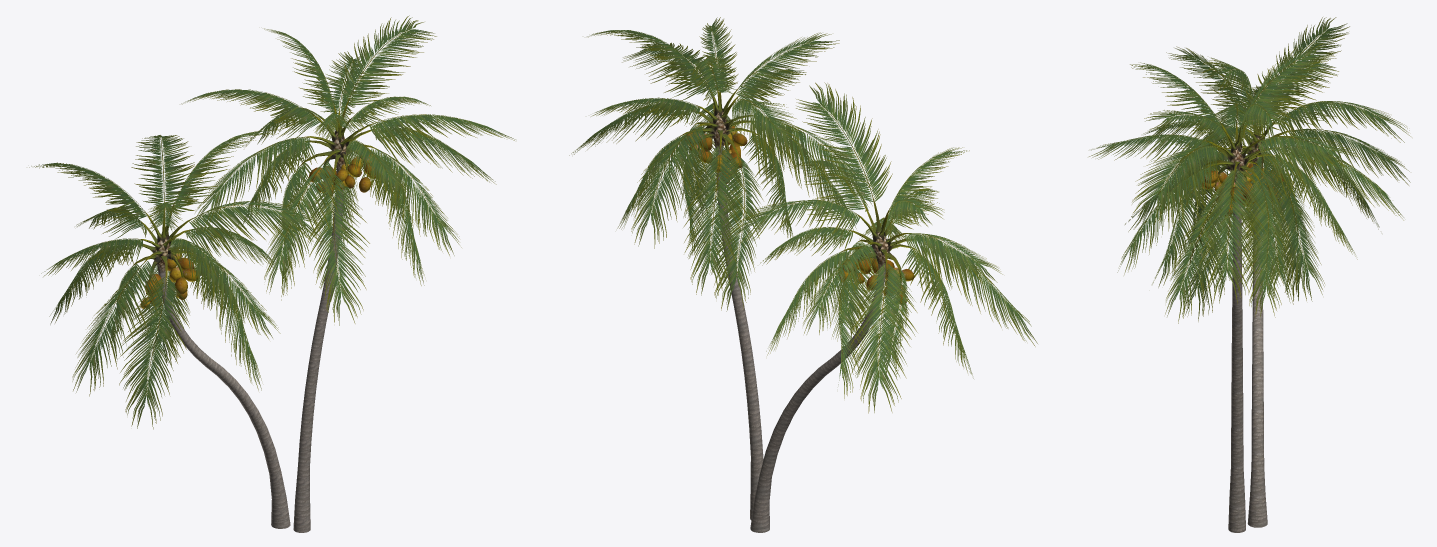
File: palm_coconut.glb
3 views of the same model, side by side, from view 1: azimuth 30°, elevation 25°; view 2: azimuth 150°, elevation 25°; view 3: azimuth 270°, elevation 25° (orthographic). The views are drawn at different scales.
Visible parts, largest first — view 1: Tree_2, Tree_0, Tree_3, Tree_4; view 2: Tree_2, Tree_0, Tree_3, Tree_4, Tree_1; view 3: Tree_2, Tree_0, Tree_3, Tree_4.
Boxes of the visible parts, x1,y1,x2,y2 form: Tree_2: (29, 15, 515, 429); Tree_0: (158, 170, 343, 532); Tree_3: (132, 98, 378, 295); Tree_4: (140, 154, 375, 308); Tree_2: (569, 17, 1037, 413); Tree_0: (716, 152, 885, 532); Tree_3: (679, 82, 917, 291); Tree_4: (685, 126, 914, 305); Tree_1: (712, 112, 888, 269); Tree_2: (1089, 17, 1410, 323); Tree_0: (1228, 201, 1267, 532); Tree_3: (1204, 112, 1296, 202); Tree_4: (1202, 162, 1283, 217).
Size of the model in its own units: 6.3 by 6.28 by 4.02.
Materials: 5 (5 with a texture image).
